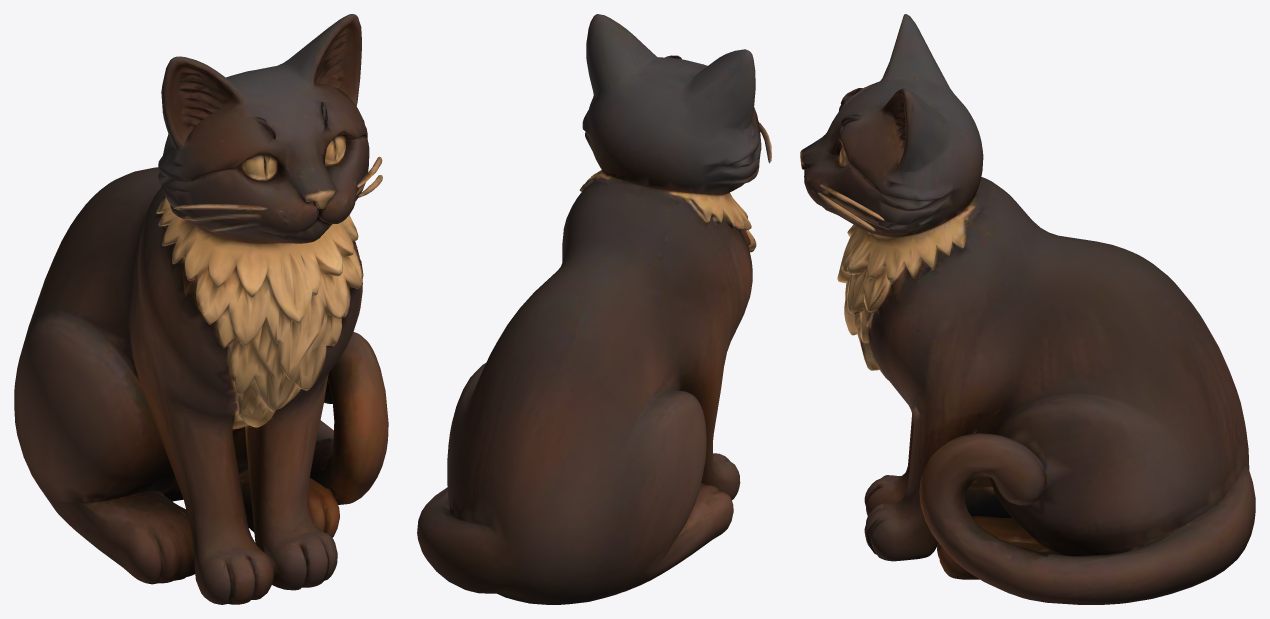
3 views of the same model, side by side, from view 1: azimuth 30°, elevation 25°; view 2: azimuth 150°, elevation 25°; view 3: azimuth 270°, elevation 25° (orthographic). The views are drawn at different scales.
Parts seen in each view (by area): view 1: node_0; view 2: node_0; view 3: node_0.
Part boxes in pixels (left/top/right/bottom): node_0: left=14, top=14, right=388, bottom=604; node_0: left=417, top=14, right=771, bottom=604; node_0: left=800, top=14, right=1255, bottom=604.
Bounding box in the file's own units: 0.5343 × 0.9684 × 0.8176.
Materials: 1 (1 with a texture image).
